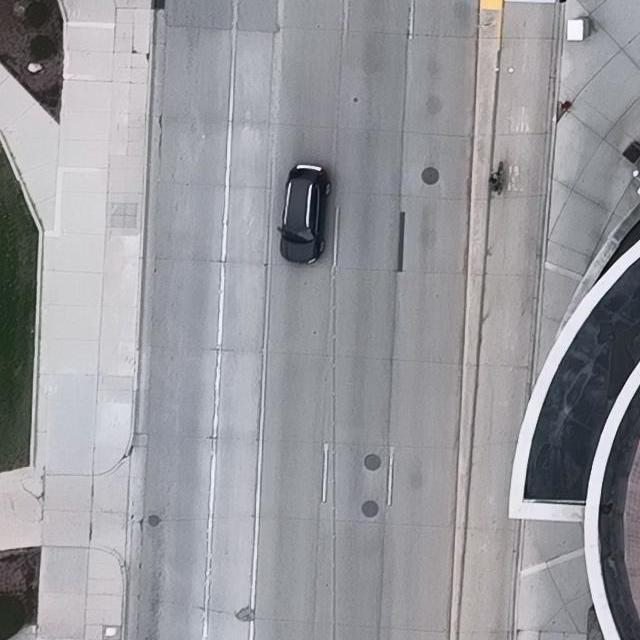car: (277, 163, 332, 263)
